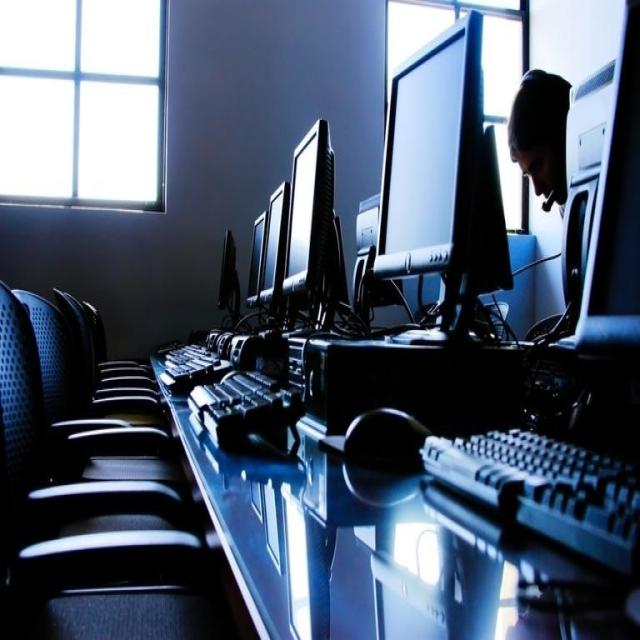E-waste: (165, 16, 634, 567)
